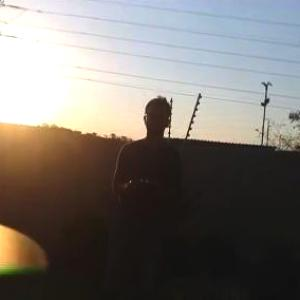follow: (108, 92, 185, 299)
